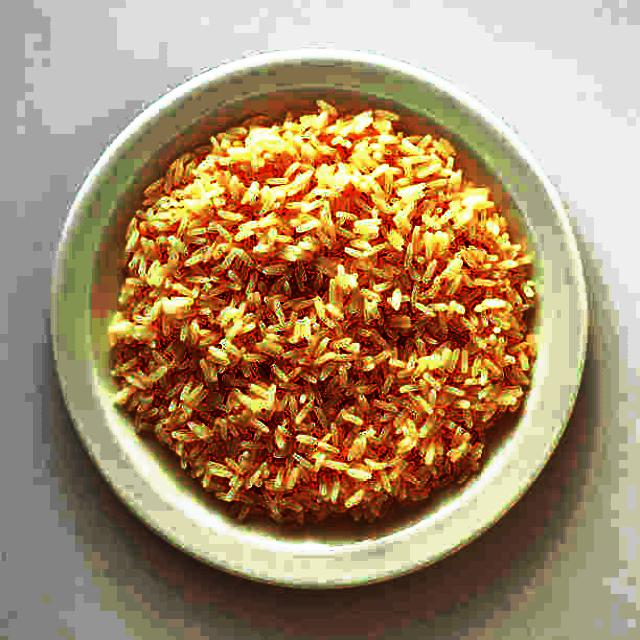rice: (111, 99, 535, 527)
